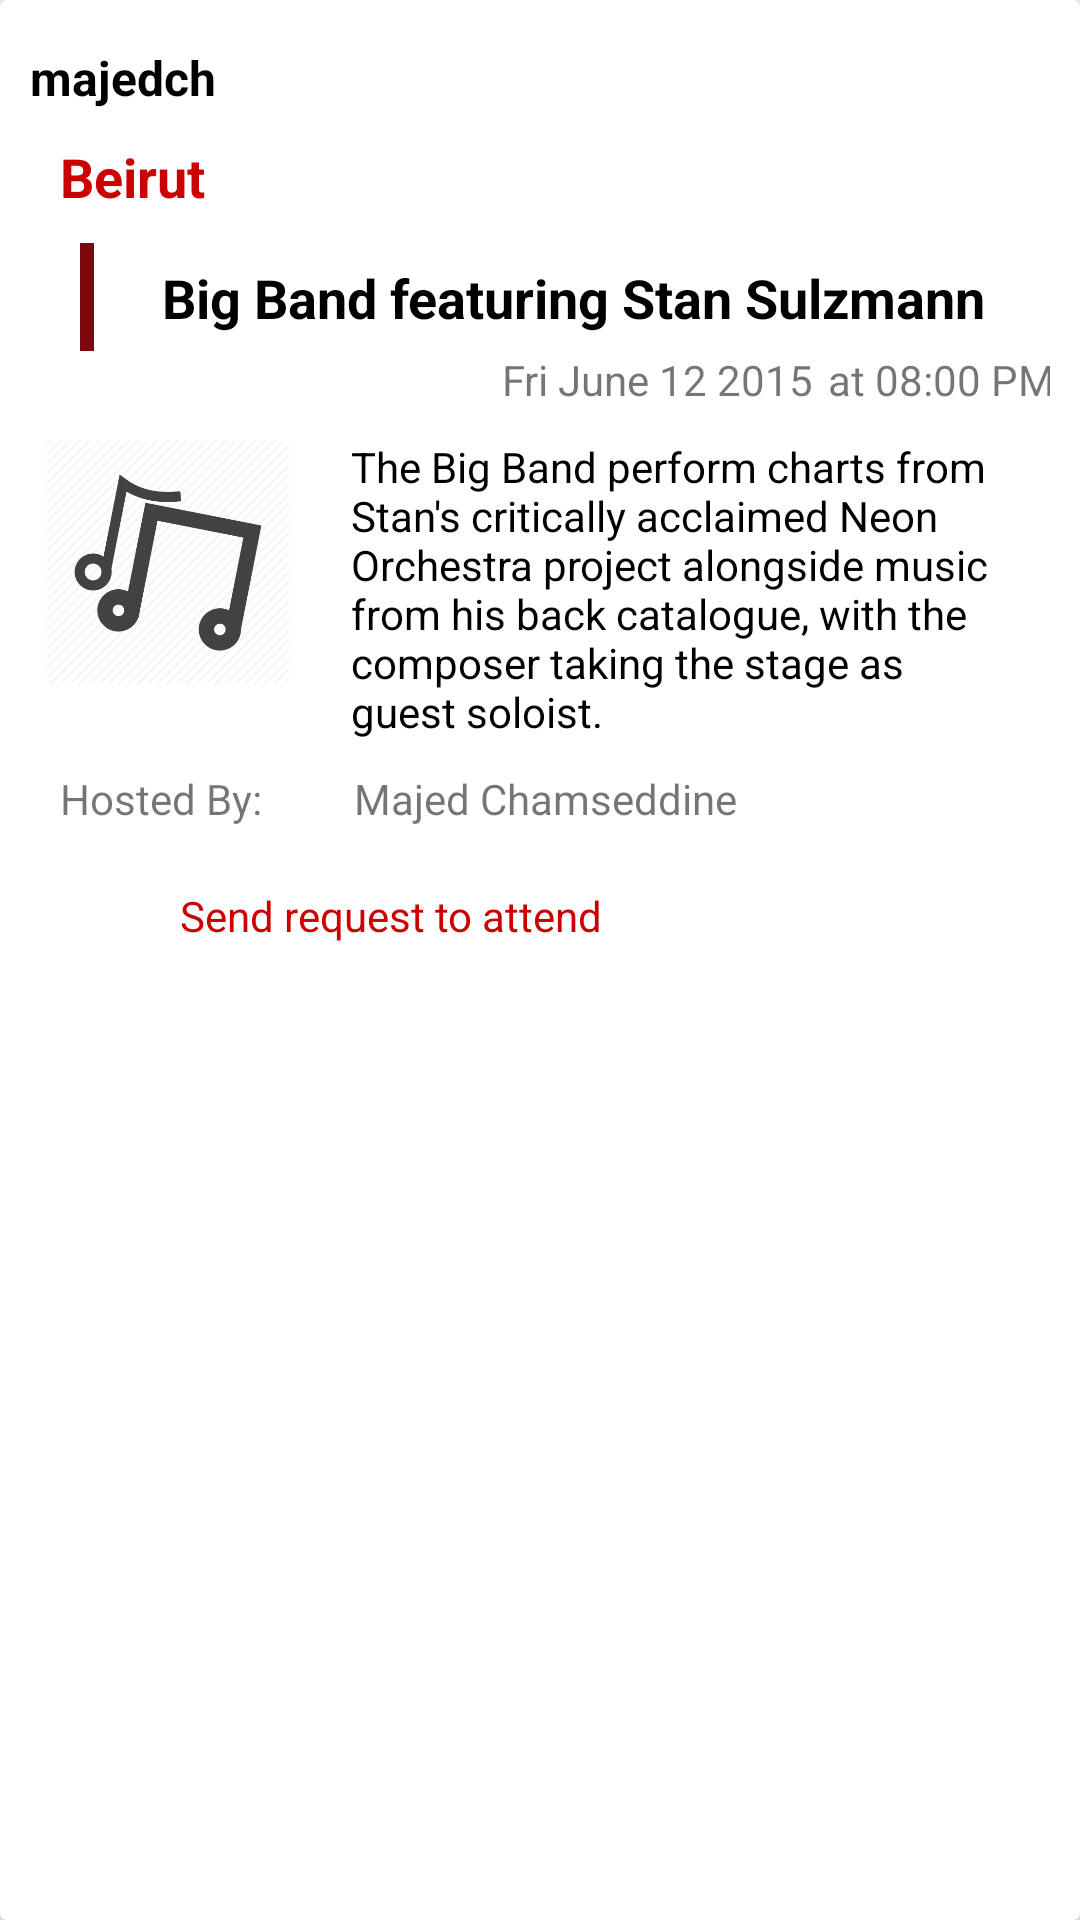

Point at icon controls on the screen. Image size 1080 x 1920, points as (x,y).
eventimage: (168,562)
